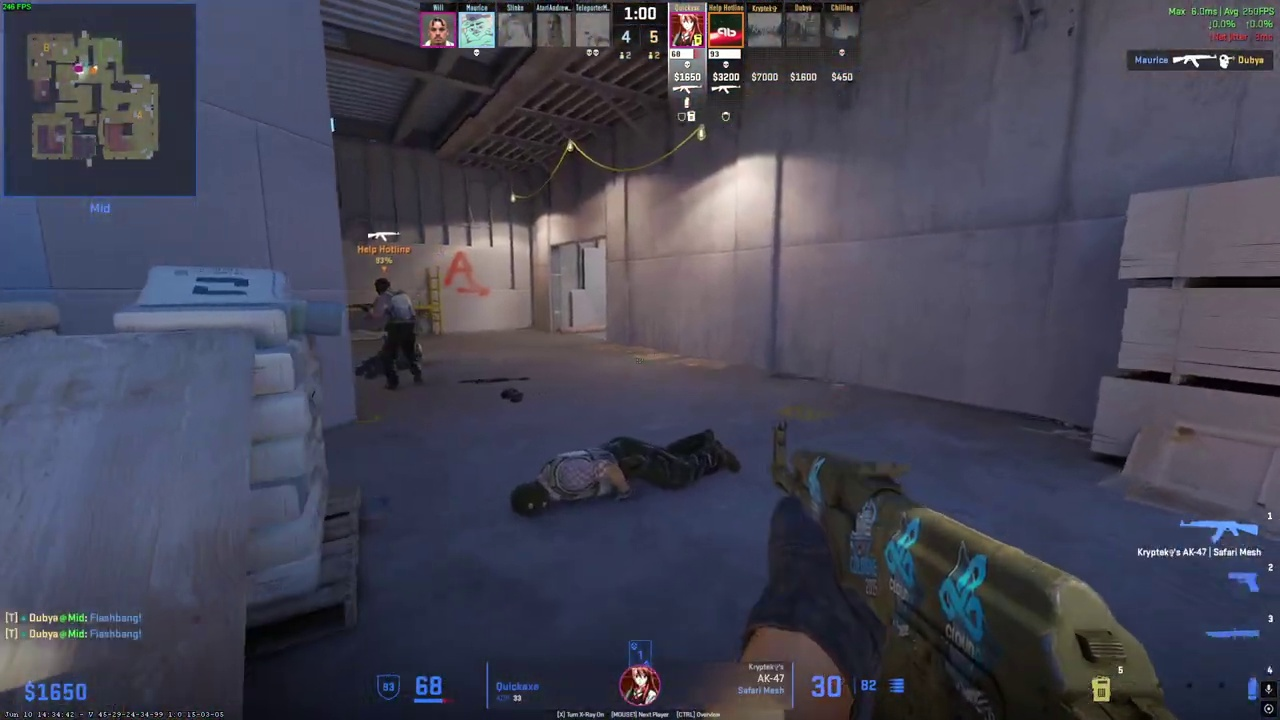Terrorist: (361, 278, 422, 390)
